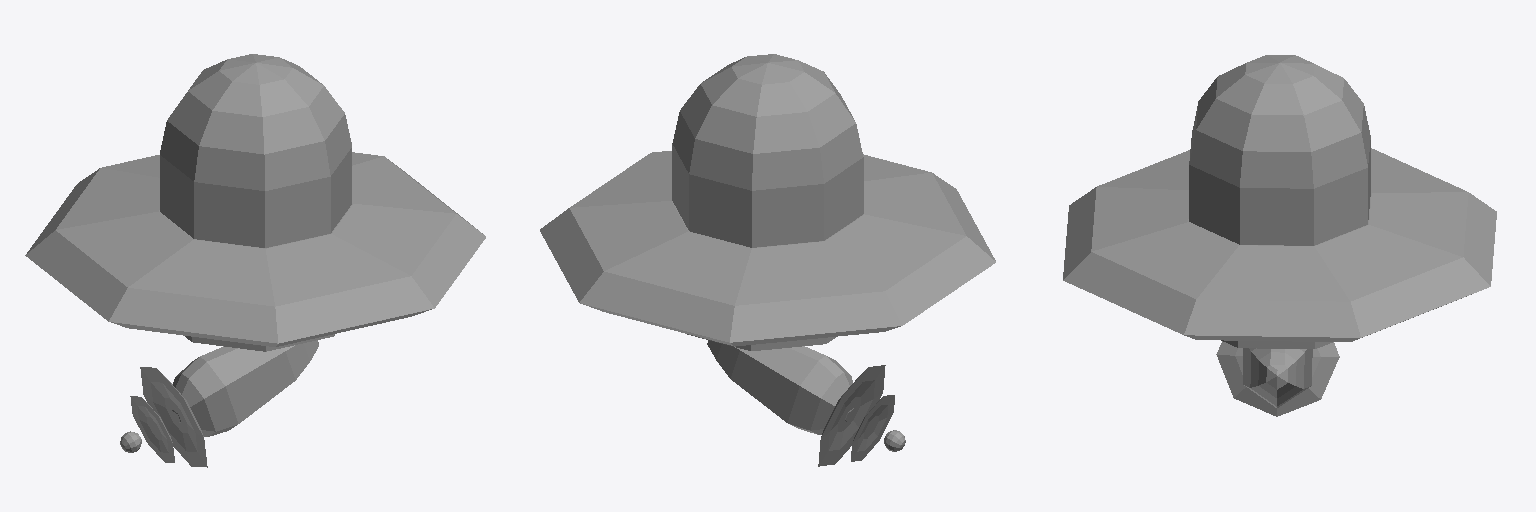
File: soucoupe.obj
3 renders of one model, left to right at view 1: azimuth 30°, elevation 25°; view 2: azimuth 150°, elevation 25°; view 3: azimuth 270°, elevation 25°, orthographic.
Parts seen in each view (by area): view 1: soucoupe, vitre, arme; view 2: soucoupe, vitre, arme; view 3: soucoupe, vitre, arme.
Boxes of the visible parts, x1=… form: soucoupe: x1=25, y1=152, x2=485, y2=351; vitre: x1=160, y1=54, x2=351, y2=247; arme: x1=120, y1=340, x2=318, y2=467; soucoupe: x1=540, y1=151, x2=995, y2=350; vitre: x1=672, y1=54, x2=863, y2=247; arme: x1=707, y1=340, x2=905, y2=466; soucoupe: x1=1063, y1=148, x2=1496, y2=348; vitre: x1=1189, y1=55, x2=1370, y2=245; arme: x1=1216, y1=341, x2=1339, y2=416.
Size of the model in its own units: 3.95 by 3.88 by 3.95.